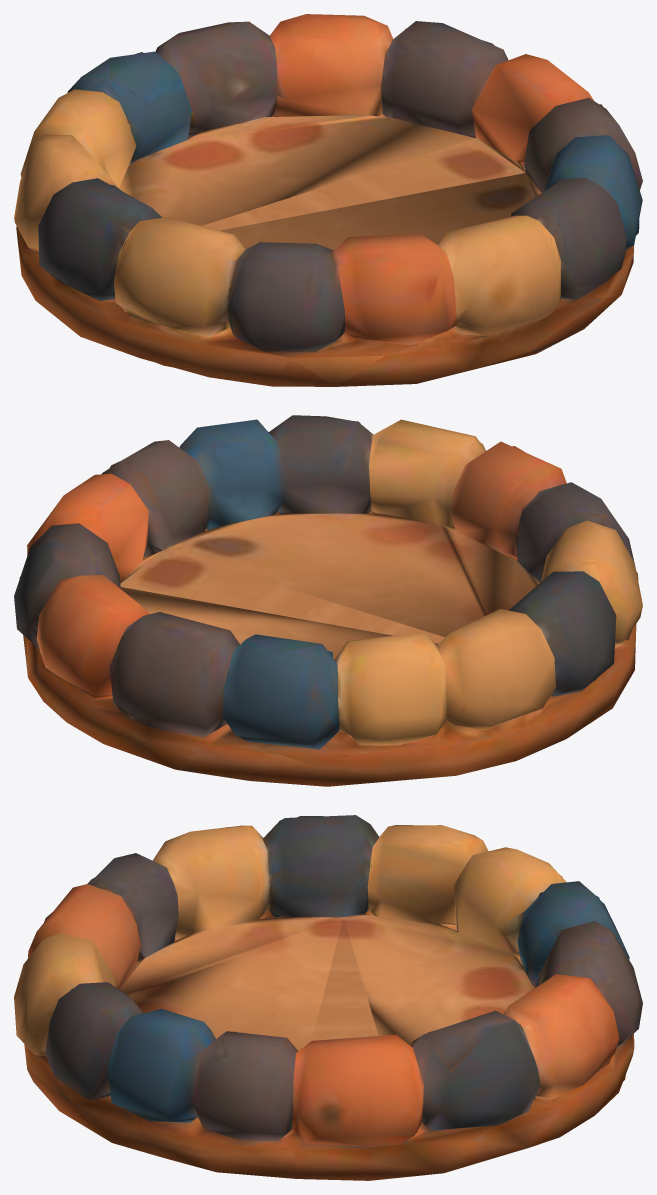
File: lg-pet-bed.glb
3 views of the same model, one above another, from view 1: azimuth 30°, elevation 25°; view 2: azimuth 150°, elevation 25°; view 3: azimuth 270°, elevation 25° (orthographic).
Visible parts, largest first — view 1: geometry_0; view 2: geometry_0; view 3: geometry_0.
Part boxes in pixels (<box>): geometry_0: <box>14,14,642,386</box>; geometry_0: <box>14,415,642,786</box>; geometry_0: <box>14,815,642,1180</box>.
Size of the model in its own units: 0.991 by 0.2199 by 1.
1 material, 1 textured.
